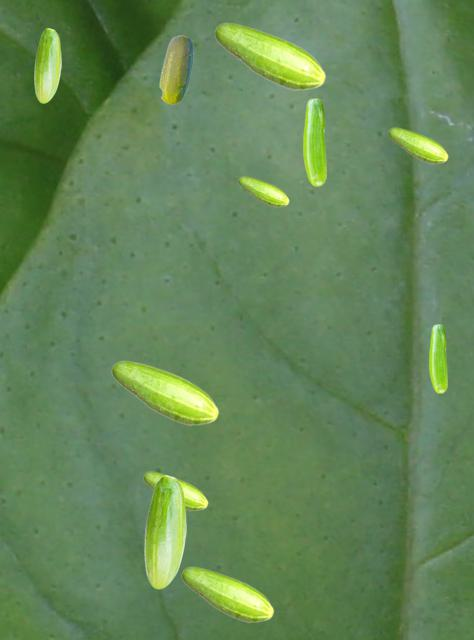cucumber: (214, 22, 325, 90), (111, 360, 218, 425), (181, 566, 273, 622), (144, 475, 185, 588), (143, 471, 207, 510), (159, 35, 192, 103), (388, 127, 447, 163), (34, 28, 60, 102), (303, 98, 325, 185), (238, 176, 288, 206), (429, 324, 446, 392), (139, 362, 183, 377)
